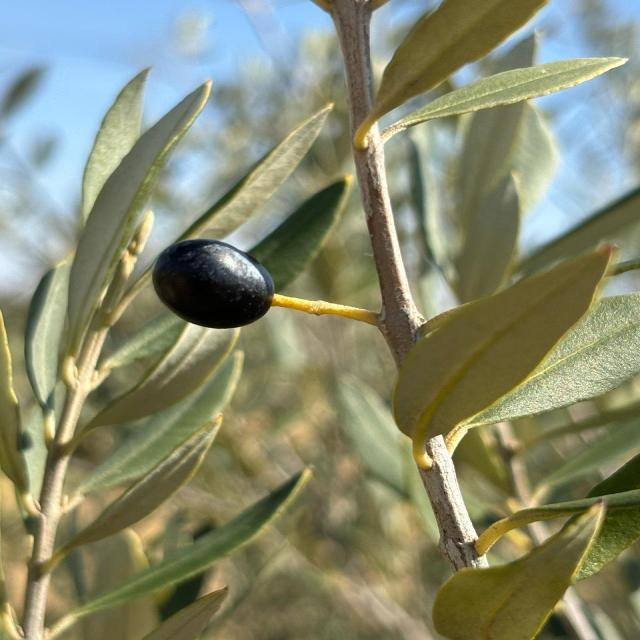Healthy: (393, 241, 616, 448), (60, 81, 211, 350), (54, 414, 221, 564), (432, 502, 607, 640), (475, 292, 639, 426), (178, 102, 333, 241), (381, 57, 627, 143), (152, 239, 379, 329), (372, 0, 548, 116)
